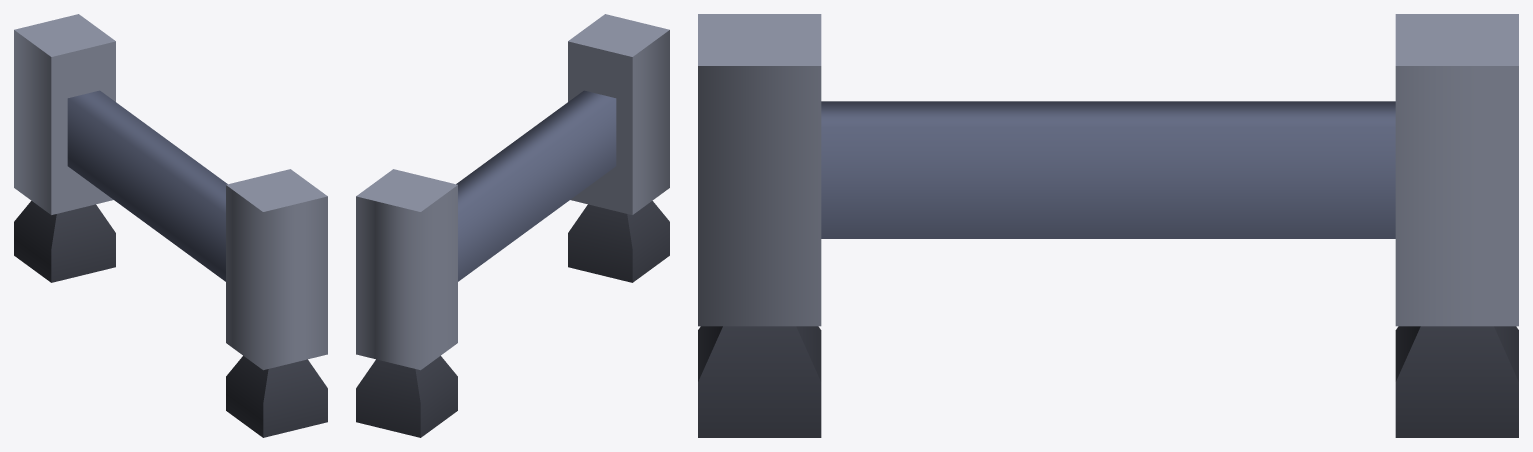
File: StructureShort-transformed.glb
3 views of the same model, side by side, from view 1: azimuth 30°, elevation 25°; view 2: azimuth 150°, elevation 25°; view 3: azimuth 270°, elevation 25° (orthographic). The views are drawn at different scales.
Visible parts, largest first — view 1: structure-short; view 2: structure-short; view 3: structure-short.
Boxes of the visible parts, x1,y1,x2,y2 form: structure-short: (14,14,327,437); structure-short: (356,14,669,437); structure-short: (698,14,1518,437).
Bounding box in the file's own units: 0.15 × 0.5 × 1.
